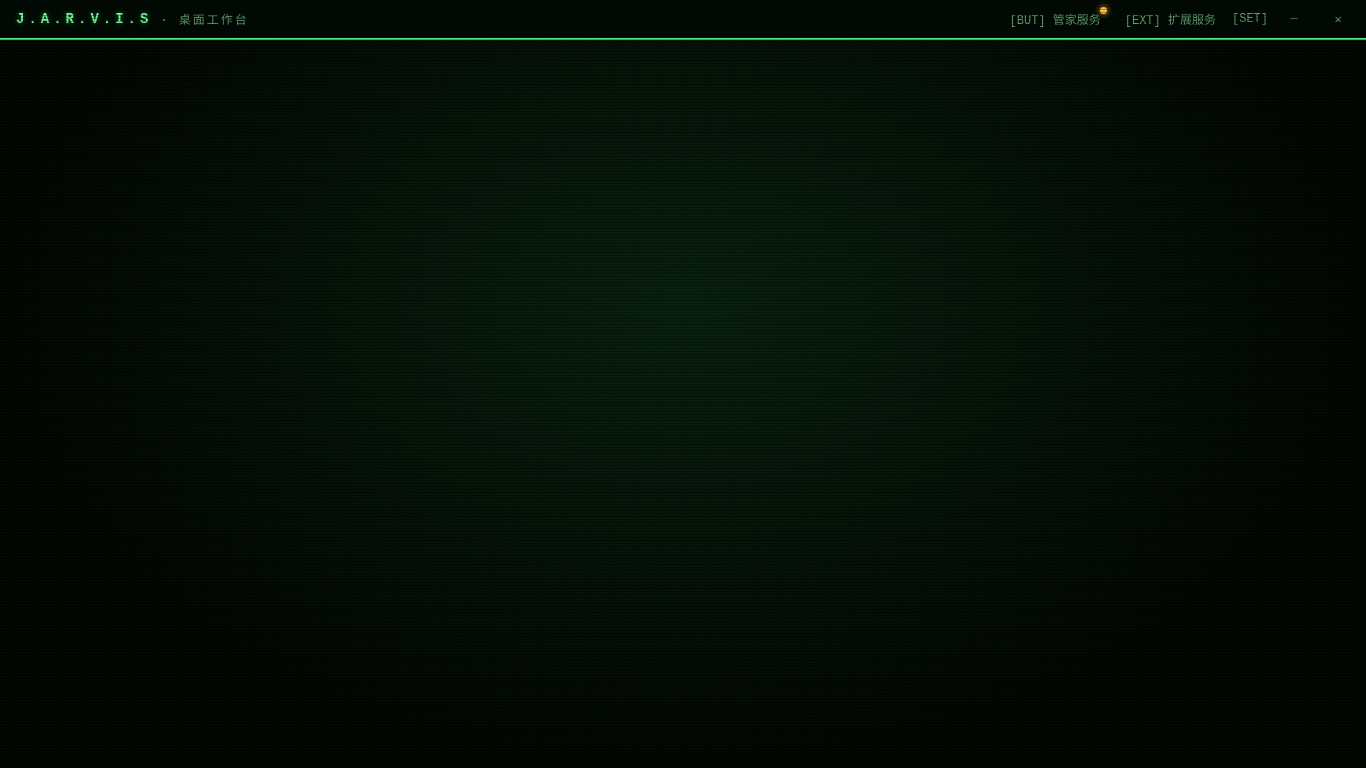
Test case: 感知源首次引导（W2 第 7 步） › 提示点亮时：按钮渲染 .notice-dot 且 title 换成引导文案；点进面板红点消失
Expected: the element with test id "butler-notice-dot" is shown, [1100, 7, 1107, 14]
Click the button with test id "btn-open-butler".
click(1055, 19)  # box [1000, 4, 1111, 34]
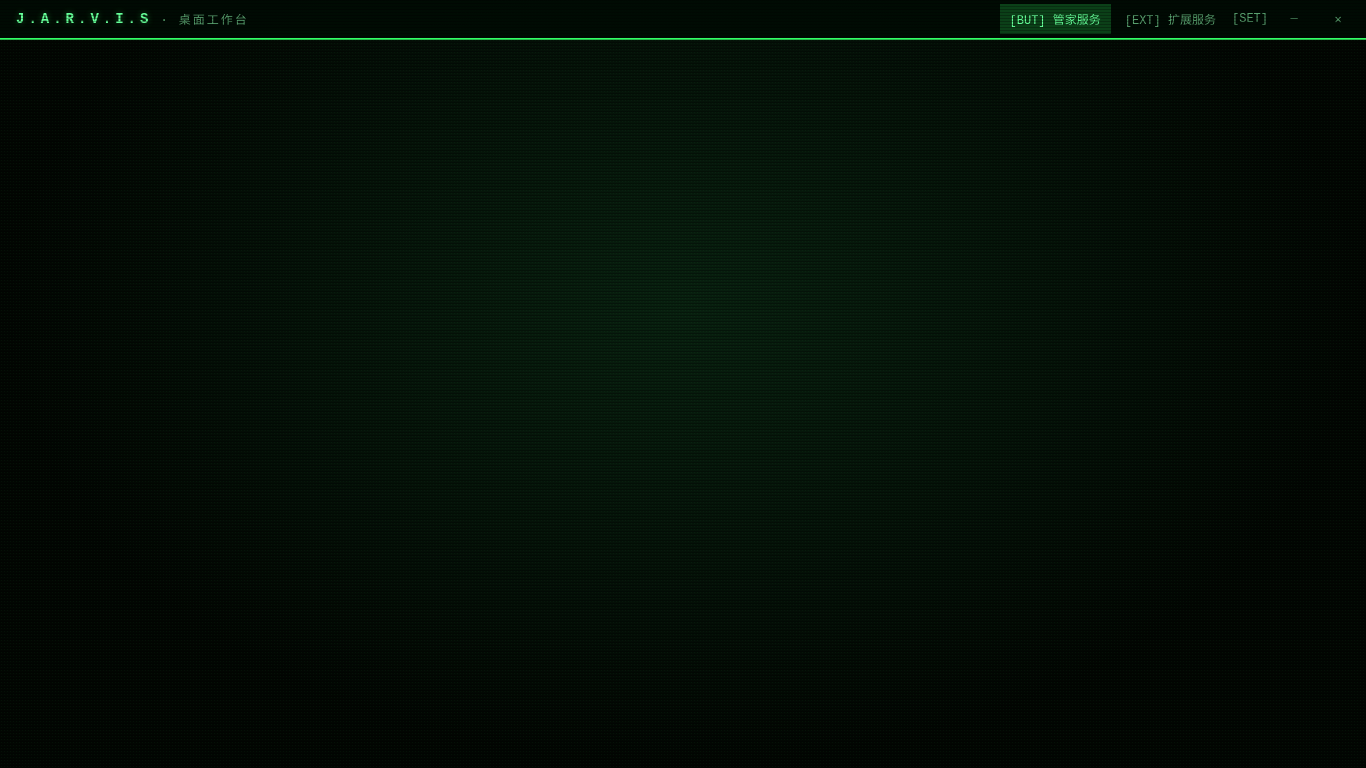
Now the element with test id "butler-notice-dot" is gone
